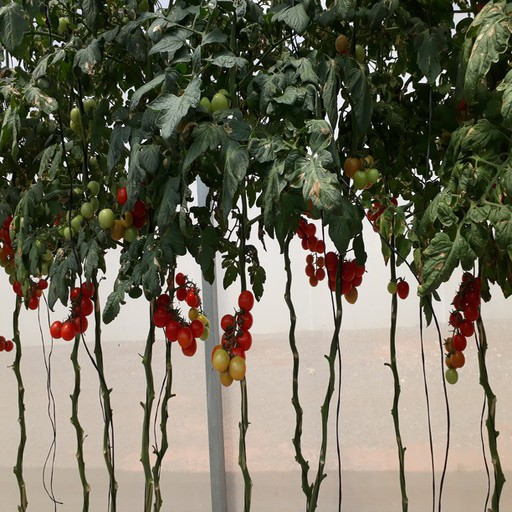green tomato bunch: (29, 181, 100, 276), (69, 97, 108, 141), (345, 152, 378, 186), (196, 86, 232, 117)
mixed tomato bunch: (2, 214, 47, 310)
red tomato bunch: (444, 272, 484, 385), (212, 292, 255, 387), (154, 295, 203, 357), (290, 216, 328, 287), (50, 283, 96, 340), (326, 252, 365, 305), (366, 196, 399, 230)
